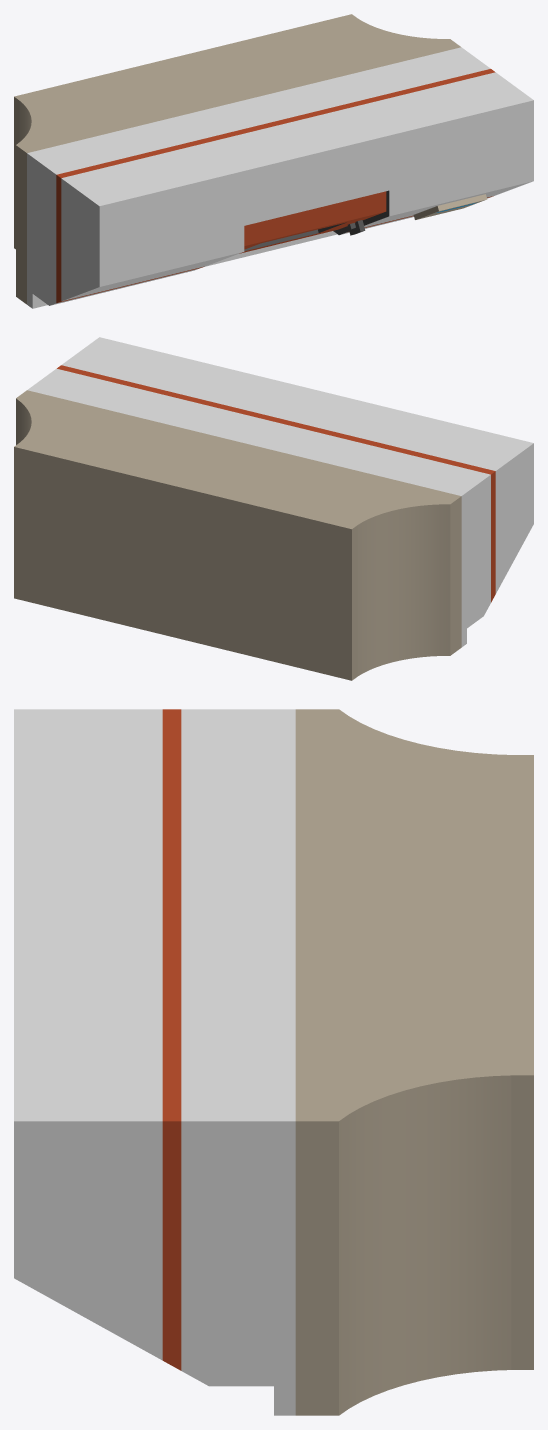
The model's file is cnc_grinding_machine_1_state_2.dae.
3 renders of one model, top to bottom at view 1: azimuth 30°, elevation 25°; view 2: azimuth 150°, elevation 25°; view 3: azimuth 270°, elevation 25°, orthographic. The views are drawn at different scales.
Visible parts, largest first — view 1: coords_ME_ID91_MA_material_8, coords_ME_ID11_MA_material_13, coords_ME_ID33_MA_material_8, coords_ME_ID41_MA_material_14, coords_ME_ID79_MA_material_14, coords_ME_ID97_MA_material_13, coords_ME_ID85_MA_material; view 2: coords_ME_ID11_MA_material_13, coords_ME_ID91_MA_material_8, coords_ME_ID33_MA_material_8, coords_ME_ID79_MA_material_14; view 3: coords_ME_ID11_MA_material_13, coords_ME_ID91_MA_material_8, coords_ME_ID33_MA_material_8, coords_ME_ID79_MA_material_14.
Part boxes in pixels (bbox=[...]): coords_ME_ID91_MA_material_8: bbox=[61, 72, 533, 301]; coords_ME_ID11_MA_material_13: bbox=[14, 14, 460, 304]; coords_ME_ID33_MA_material_8: bbox=[27, 47, 490, 308]; coords_ME_ID41_MA_material_14: bbox=[239, 191, 386, 253]; coords_ME_ID79_MA_material_14: bbox=[56, 69, 495, 303]; coords_ME_ID97_MA_material_13: bbox=[413, 194, 487, 219]; coords_ME_ID85_MA_material: bbox=[244, 222, 346, 251]; coords_ME_ID11_MA_material_13: bbox=[14, 390, 461, 680]; coords_ME_ID91_MA_material_8: bbox=[61, 337, 533, 593]; coords_ME_ID33_MA_material_8: bbox=[27, 368, 490, 647]; coords_ME_ID79_MA_material_14: bbox=[57, 365, 495, 602]; coords_ME_ID11_MA_material_13: bbox=[295, 709, 533, 1415]; coords_ME_ID91_MA_material_8: bbox=[14, 709, 162, 1360]; coords_ME_ID33_MA_material_8: bbox=[181, 709, 295, 1415]; coords_ME_ID79_MA_material_14: bbox=[162, 709, 181, 1370].
Size of the model in its own units: 38.98 by 12.99 by 20.79.
